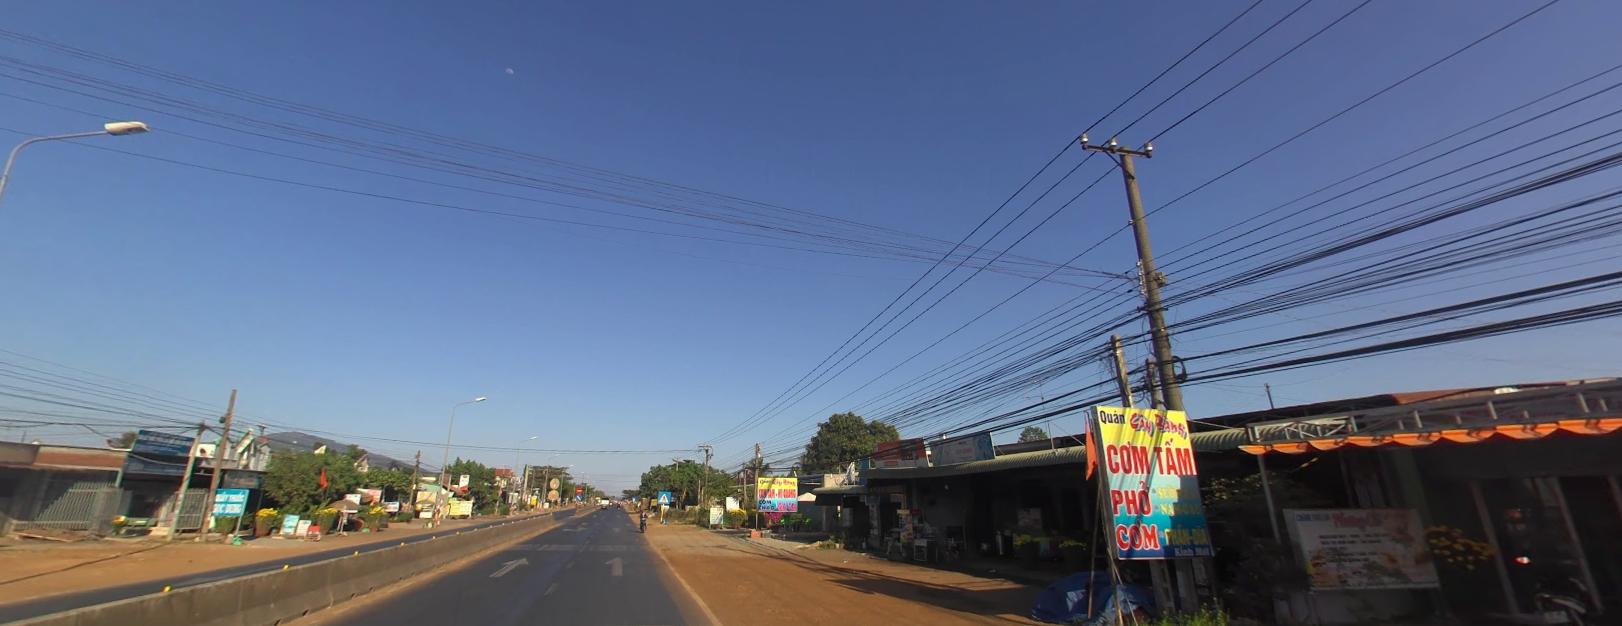Cam nguoc chieu: (575, 485, 582, 491)
Hieu lenh: (575, 491, 582, 499)
